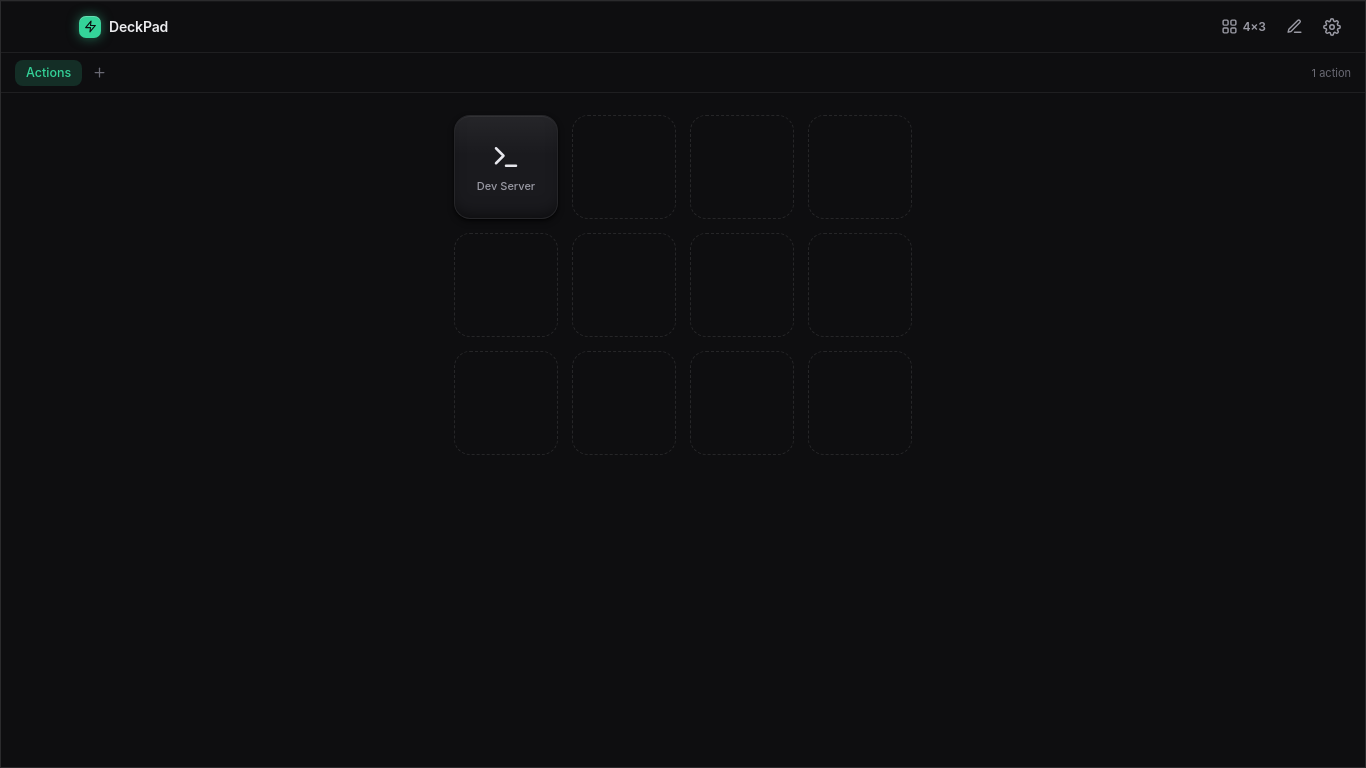
Test: App shell › adds a group with + and switches tabs
The image size is (1366, 768).
Expected: the text "Dev Server" is shown, [477, 181, 535, 192]
Click the button titled "New group".
click(99, 72)  # box [86, 60, 112, 86]
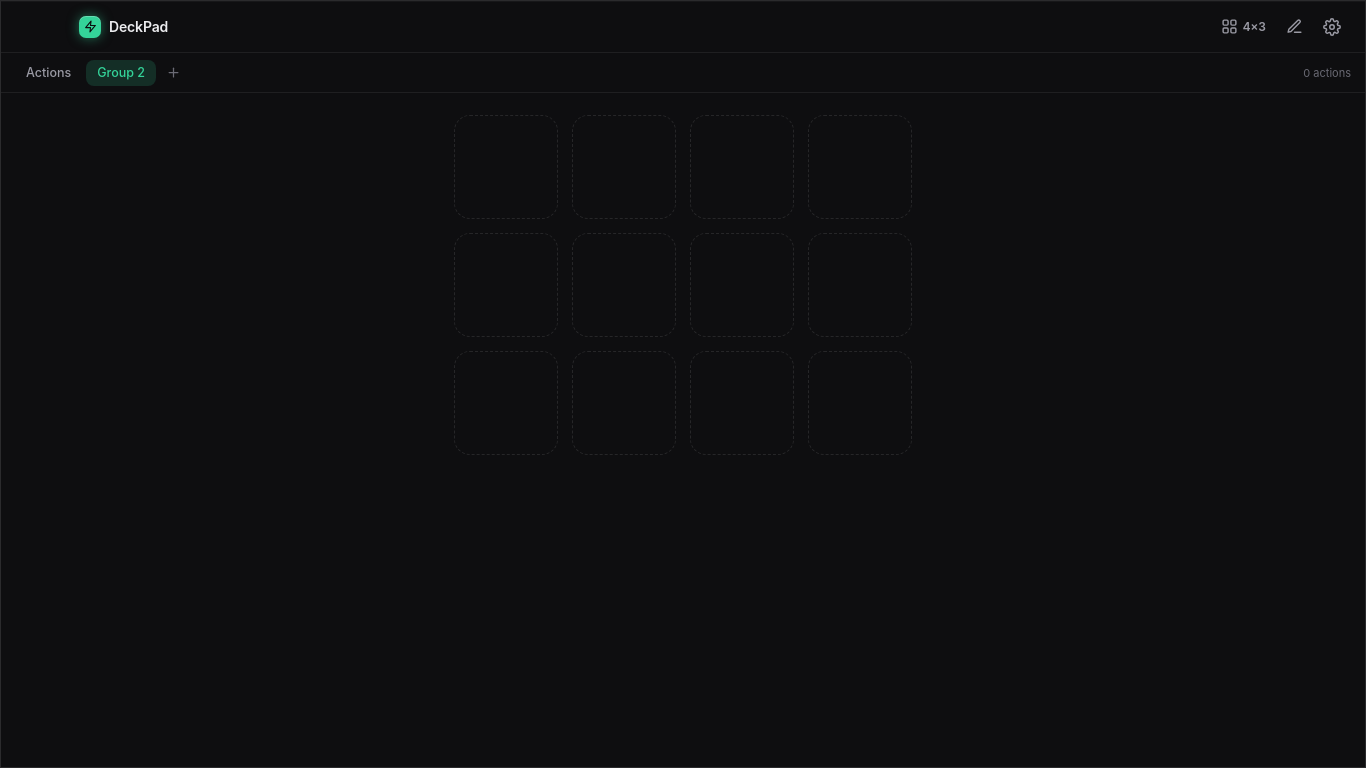
Now the text "Group 2" is shown, box [97, 65, 145, 80]
